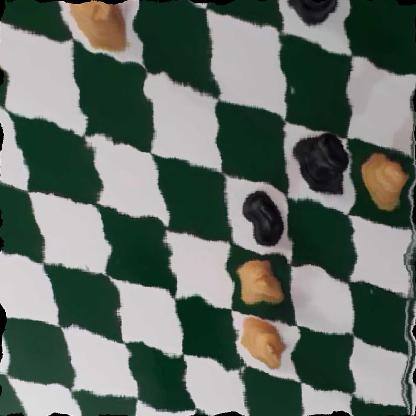black-king: (286, 116, 355, 205)
black-pawn: (240, 186, 286, 250)
black-rook: (276, 0, 346, 41)
white-bishop: (230, 248, 288, 313)
white-king: (232, 310, 292, 371)
white-pawn: (359, 143, 408, 215)
white-rook: (60, 0, 134, 62)
